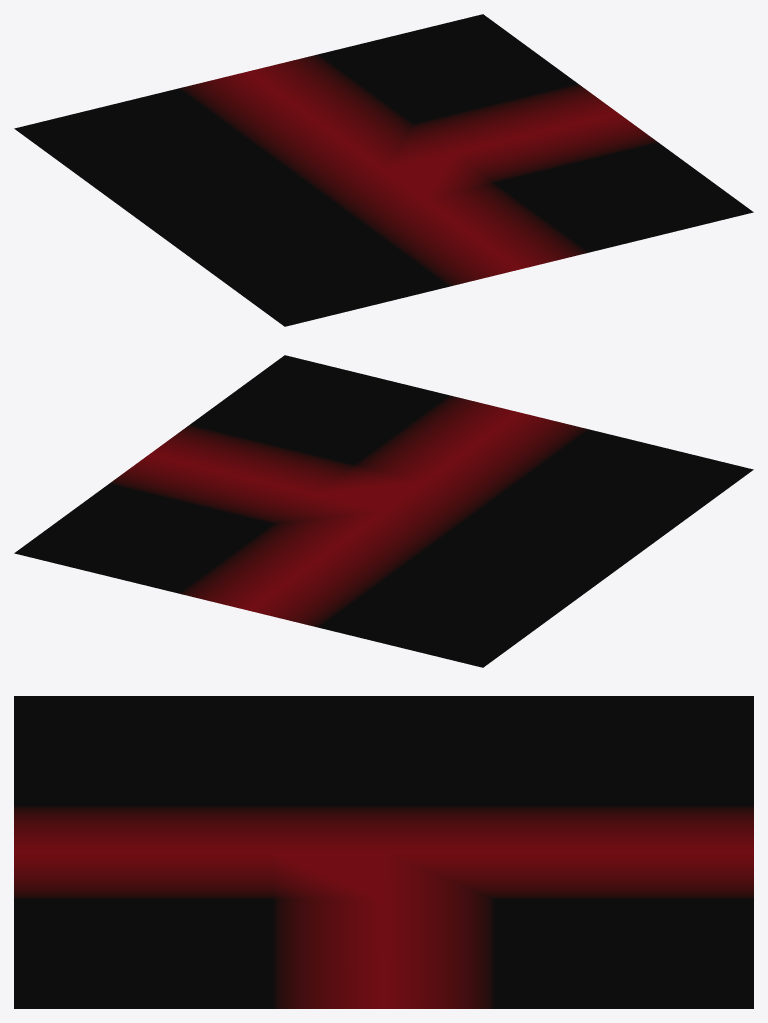
File: Card_T.fbx
3 views of the same model, one above another, from view 1: azimuth 30°, elevation 25°; view 2: azimuth 150°, elevation 25°; view 3: azimuth 270°, elevation 25° (orthographic). The views are drawn at different scales.
Parts seen in each view (by area): view 1: T_karts; view 2: T_karts; view 3: T_karts.
Part boxes in pixels (box(x1,y1,x2,y2)): T_karts: box(14, 14, 753, 326); T_karts: box(14, 355, 753, 667); T_karts: box(14, 696, 753, 1008).
Size of the model in its own units: 100 by 0 by 100.
